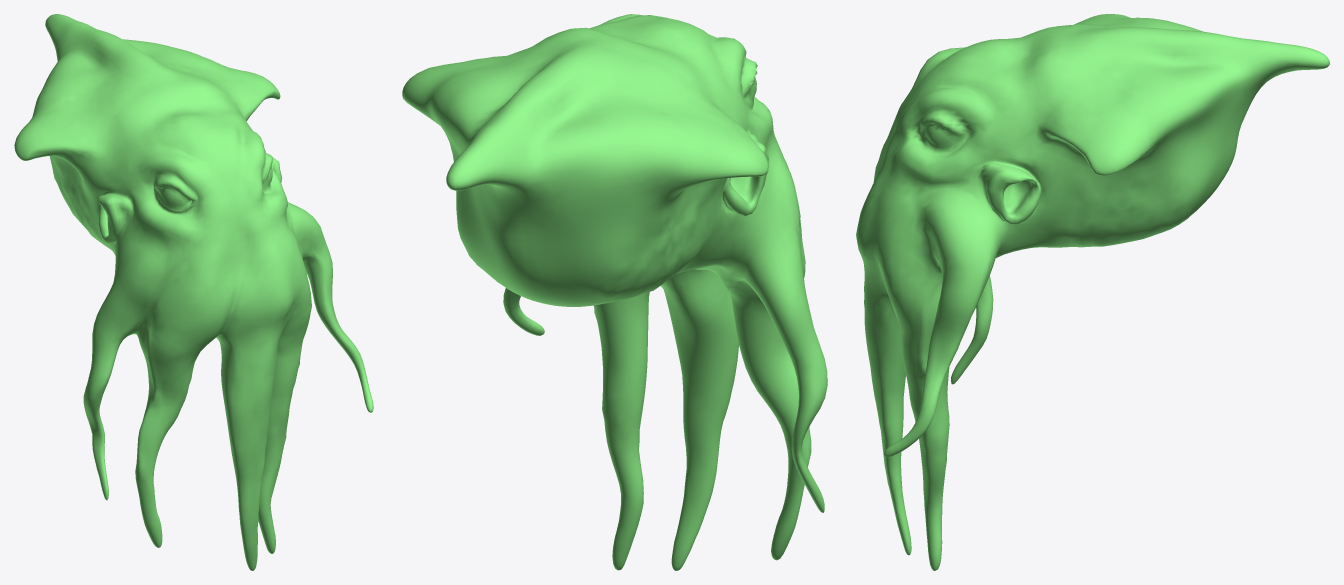
3 renders of one model, left to right at view 1: azimuth 30°, elevation 25°; view 2: azimuth 150°, elevation 25°; view 3: azimuth 270°, elevation 25°, orthographic. The views are drawn at different scales.
Parts seen in each view (by area): view 1: Merged_WaxDynaMesh130_oPP; view 2: Merged_WaxDynaMesh130_oPP; view 3: Merged_WaxDynaMesh130_oPP.
Boxes of the visible parts, bbox=[...] form: Merged_WaxDynaMesh130_oPP: bbox=[14, 14, 373, 570]; Merged_WaxDynaMesh130_oPP: bbox=[402, 14, 827, 570]; Merged_WaxDynaMesh130_oPP: bbox=[856, 14, 1329, 570].
Size of the model in its own units: 1.25 by 2 by 1.67.
